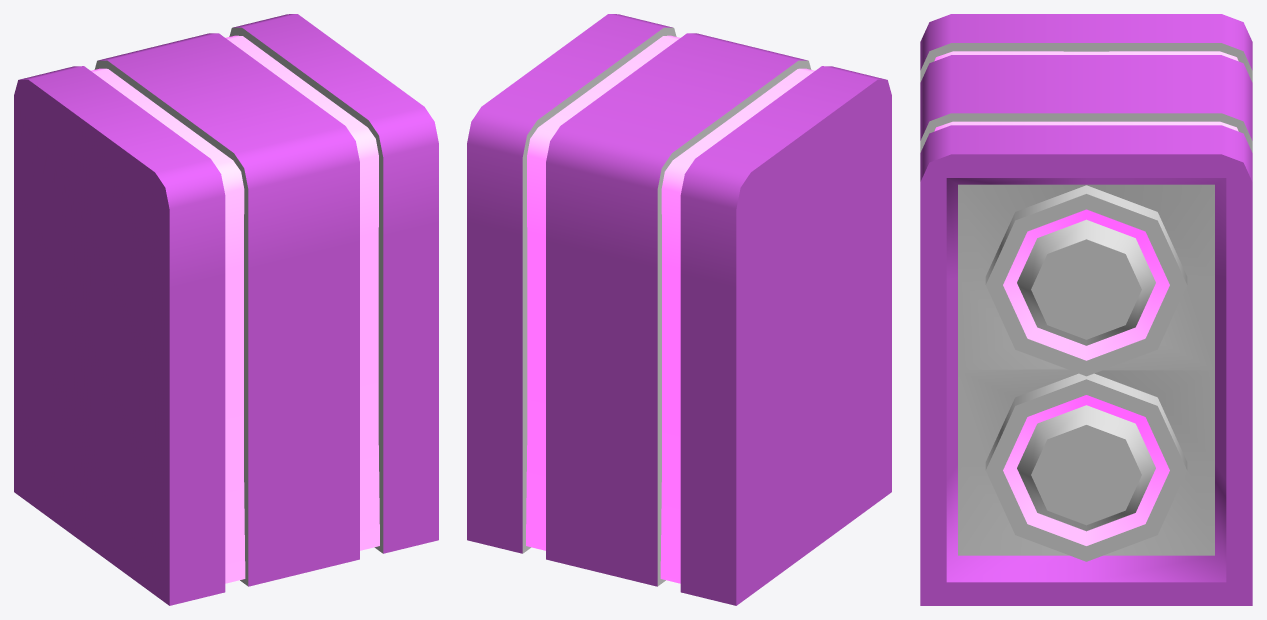
File: Speaker_AssestsConcert.fbx
The picture shows the model from 3 angles, left to right: view 1: azimuth 30°, elevation 25°; view 2: azimuth 150°, elevation 25°; view 3: azimuth 270°, elevation 25°; orthographic projection. The views are drawn at different scales.
Visible parts, largest first — view 1: Speaker; view 2: Speaker; view 3: Speaker.
Boxes of the visible parts, x1,y1,x2,y2 form: Speaker: [14, 14, 438, 605]; Speaker: [467, 14, 891, 605]; Speaker: [920, 14, 1252, 605].
Size of the model in its own units: 203 by 300 by 200.
